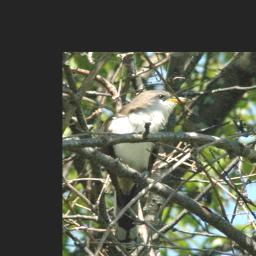Cuckoo: (97, 89, 194, 250)
